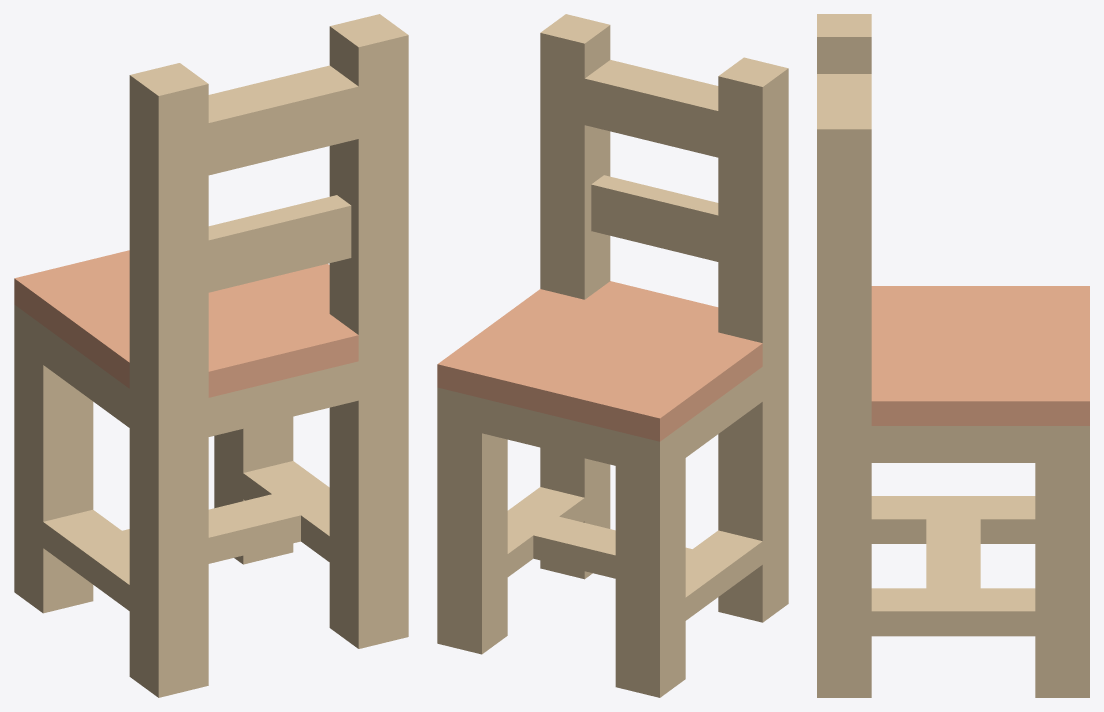
File: chairCushion.glb
The picture shows the model from 3 angles, left to right: view 1: azimuth 30°, elevation 25°; view 2: azimuth 150°, elevation 25°; view 3: azimuth 270°, elevation 25°; orthographic projection. The views are drawn at different scales.
Visible parts, largest first — view 1: chairCushion; view 2: chairCushion; view 3: chairCushion.
Part boxes in pixels (x1,y1,x2,y2): chairCushion: (14,14,408,697); chairCushion: (437,14,788,697); chairCushion: (817,14,1089,697).
Bounding box in the file's own units: 2 × 4.6 × 2.
